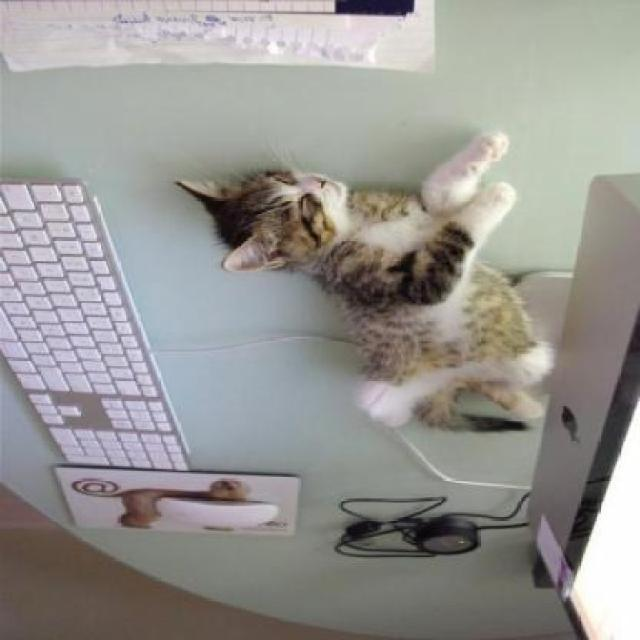cat: (165, 116, 563, 453)
